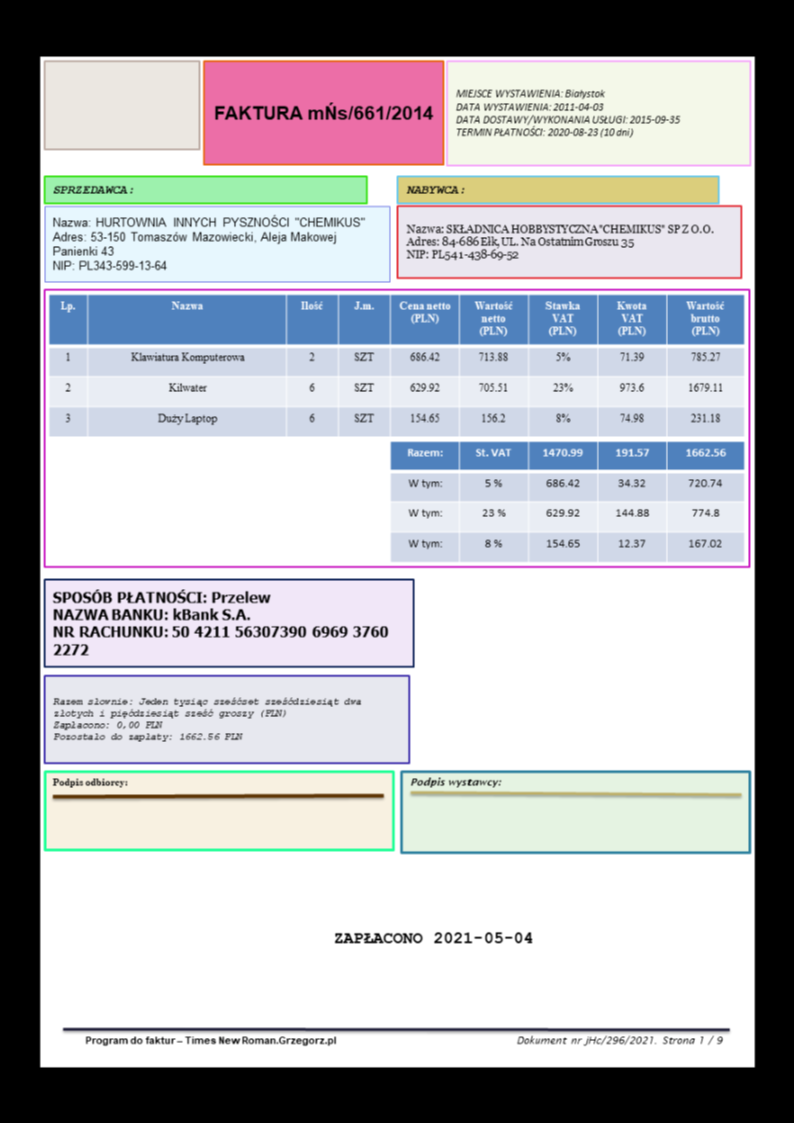Table: (48, 293, 744, 438), (388, 440, 745, 563)
TextBox: (50, 587, 389, 658), (50, 213, 367, 273), (51, 693, 364, 743), (403, 220, 716, 262), (454, 86, 681, 138), (212, 100, 435, 122), (332, 928, 535, 946), (83, 1034, 338, 1048), (514, 1033, 724, 1047), (408, 775, 502, 789), (51, 774, 127, 789), (51, 183, 134, 196), (403, 183, 465, 196)
